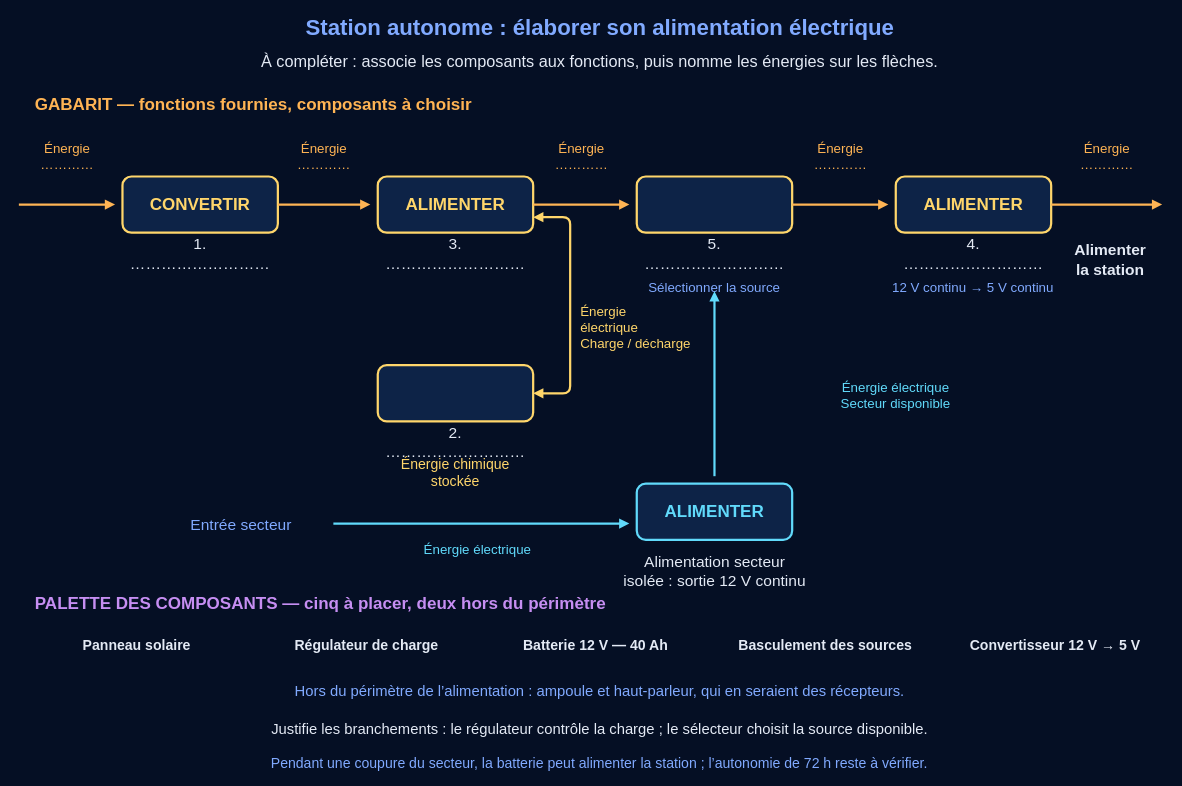
Image size: 1182x786. Some labels were removed from this diagram. Each missing label, with the box of its shape:
DISTRIBUER: (635, 175, 793, 233)
STOCKER: (376, 364, 534, 422)
